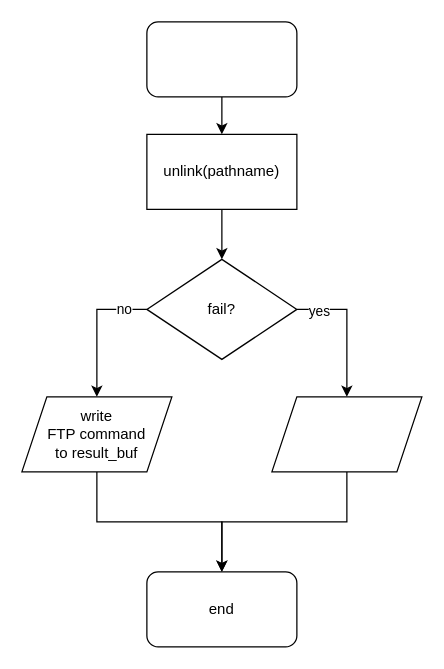
This 444x669 diagram has some shape labels left out. The shapes that lost their labels are listed below. From the top down, each one's centre as x and y in pixels, then its label:
At point (221, 59): "start".
At point (346, 434): "write error message to result_buf".
